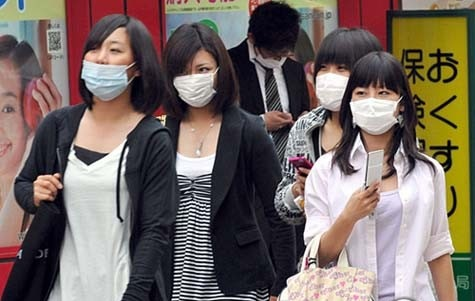face_mask: (83, 30, 131, 99), (352, 78, 400, 134), (314, 57, 364, 110), (174, 51, 215, 106), (258, 41, 294, 67)
